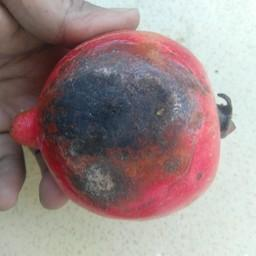Bad_pomegranate: (17, 35, 240, 224)
